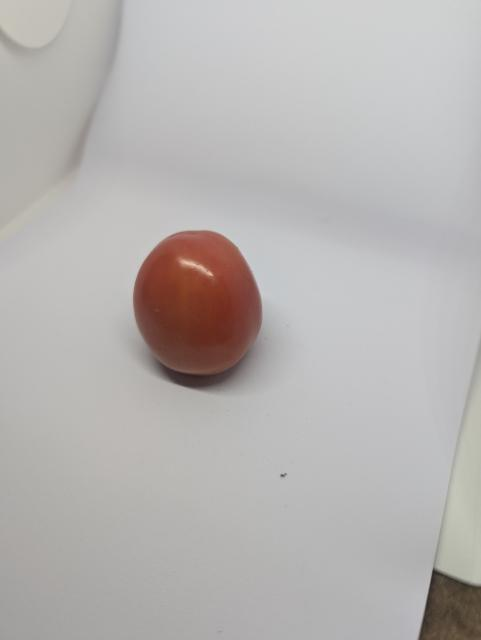red: (129, 229, 269, 381)
